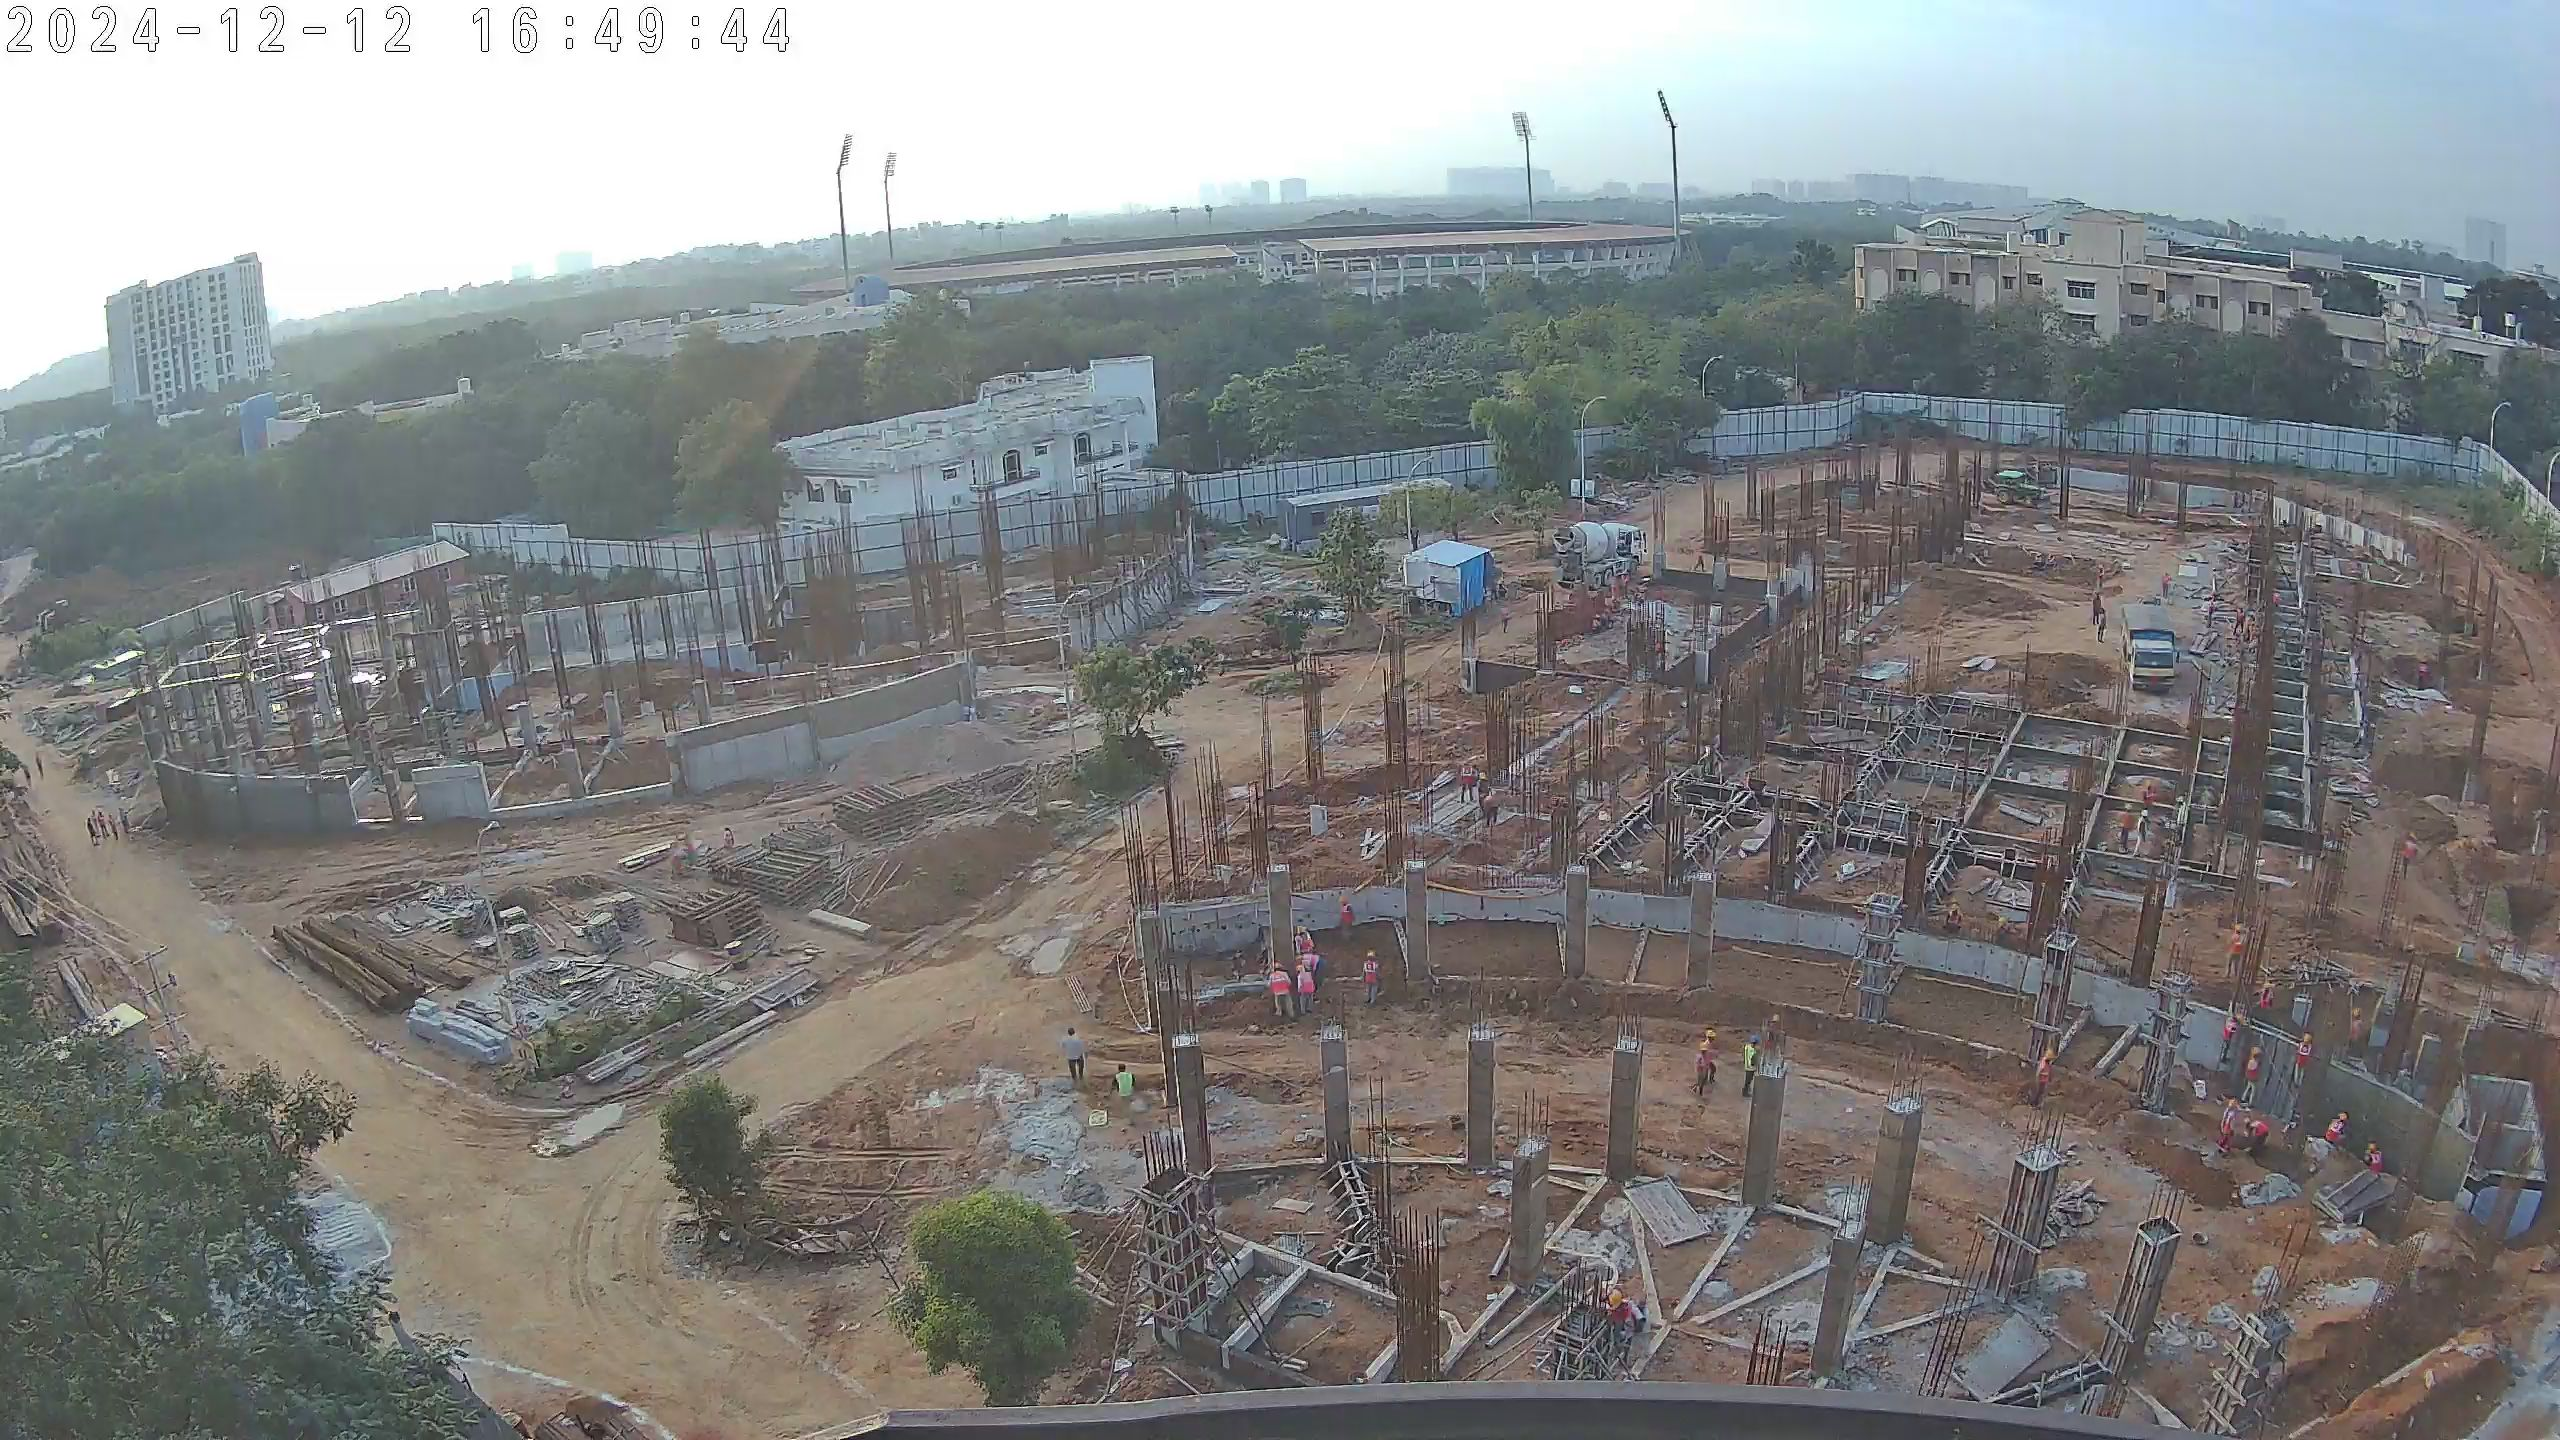bulldozer: (1989, 460, 2045, 518)
truck: (1550, 524, 1660, 600), (2114, 600, 2185, 695)
worker: (1593, 1283, 1629, 1356), (2022, 1049, 2058, 1117), (1358, 956, 1387, 1014), (2216, 1091, 2241, 1157), (1268, 958, 1291, 1029), (1105, 1059, 1139, 1107), (1685, 1044, 1713, 1101), (1066, 1025, 1089, 1091), (2242, 1041, 2265, 1107), (2225, 924, 2249, 985), (2242, 1114, 2272, 1162), (1291, 966, 1318, 1018), (2291, 1029, 2314, 1088), (1334, 891, 1357, 950), (2321, 1107, 2353, 1149), (1295, 924, 1320, 977), (1454, 754, 1477, 811), (1698, 1029, 1721, 1085), (2358, 1136, 2387, 1179), (1991, 912, 2025, 947), (2399, 831, 2420, 887), (1479, 787, 1505, 832), (2217, 1009, 2237, 1066), (2134, 807, 2153, 866), (2135, 775, 2159, 818), (2201, 589, 2221, 635), (2117, 805, 2137, 851), (1739, 1035, 1756, 1087), (1941, 897, 1967, 930), (2414, 652, 2433, 693), (2087, 587, 2105, 629), (2256, 975, 2275, 1013), (1475, 771, 1493, 809), (2095, 609, 2113, 645), (82, 817, 101, 849), (1690, 548, 1709, 579), (117, 805, 136, 836), (2161, 569, 2177, 604), (719, 826, 739, 854), (2232, 606, 2248, 639), (19, 762, 38, 789), (1495, 607, 1513, 635), (96, 807, 110, 843), (108, 812, 123, 844), (89, 809, 102, 842), (33, 753, 47, 780)
